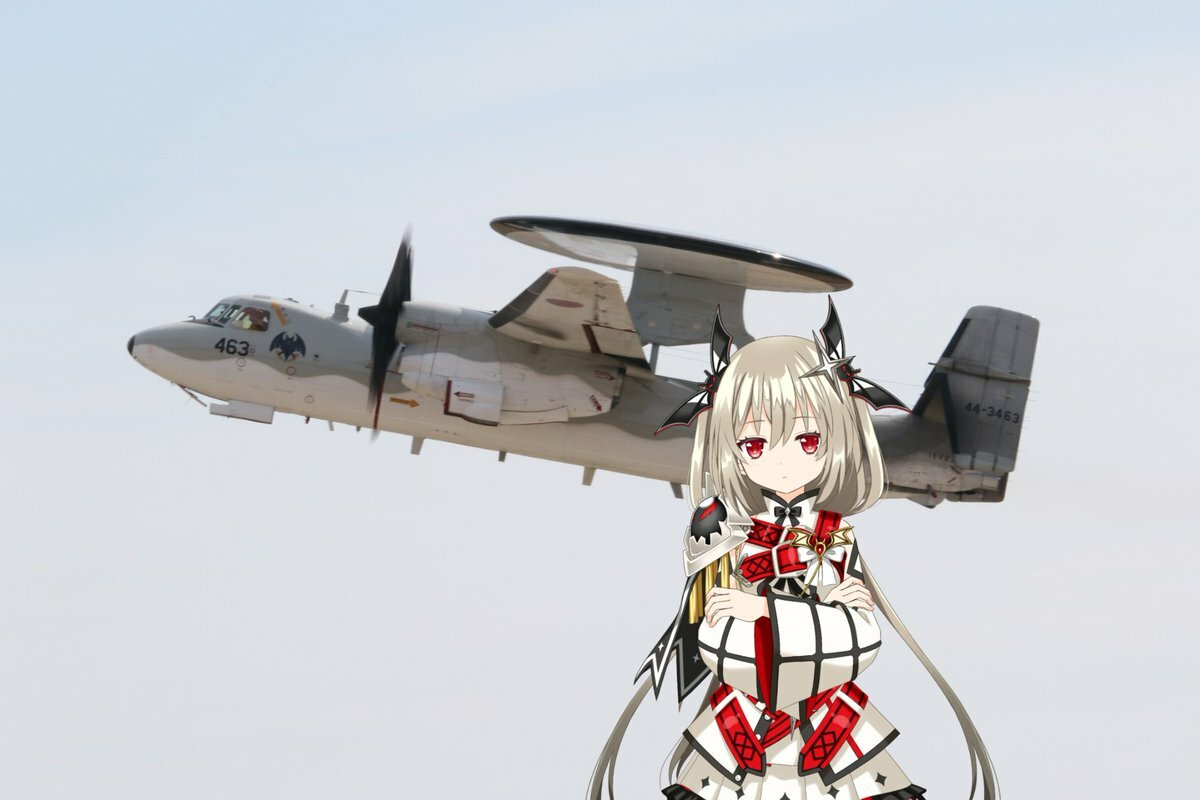E2: (126, 215, 1040, 509)
